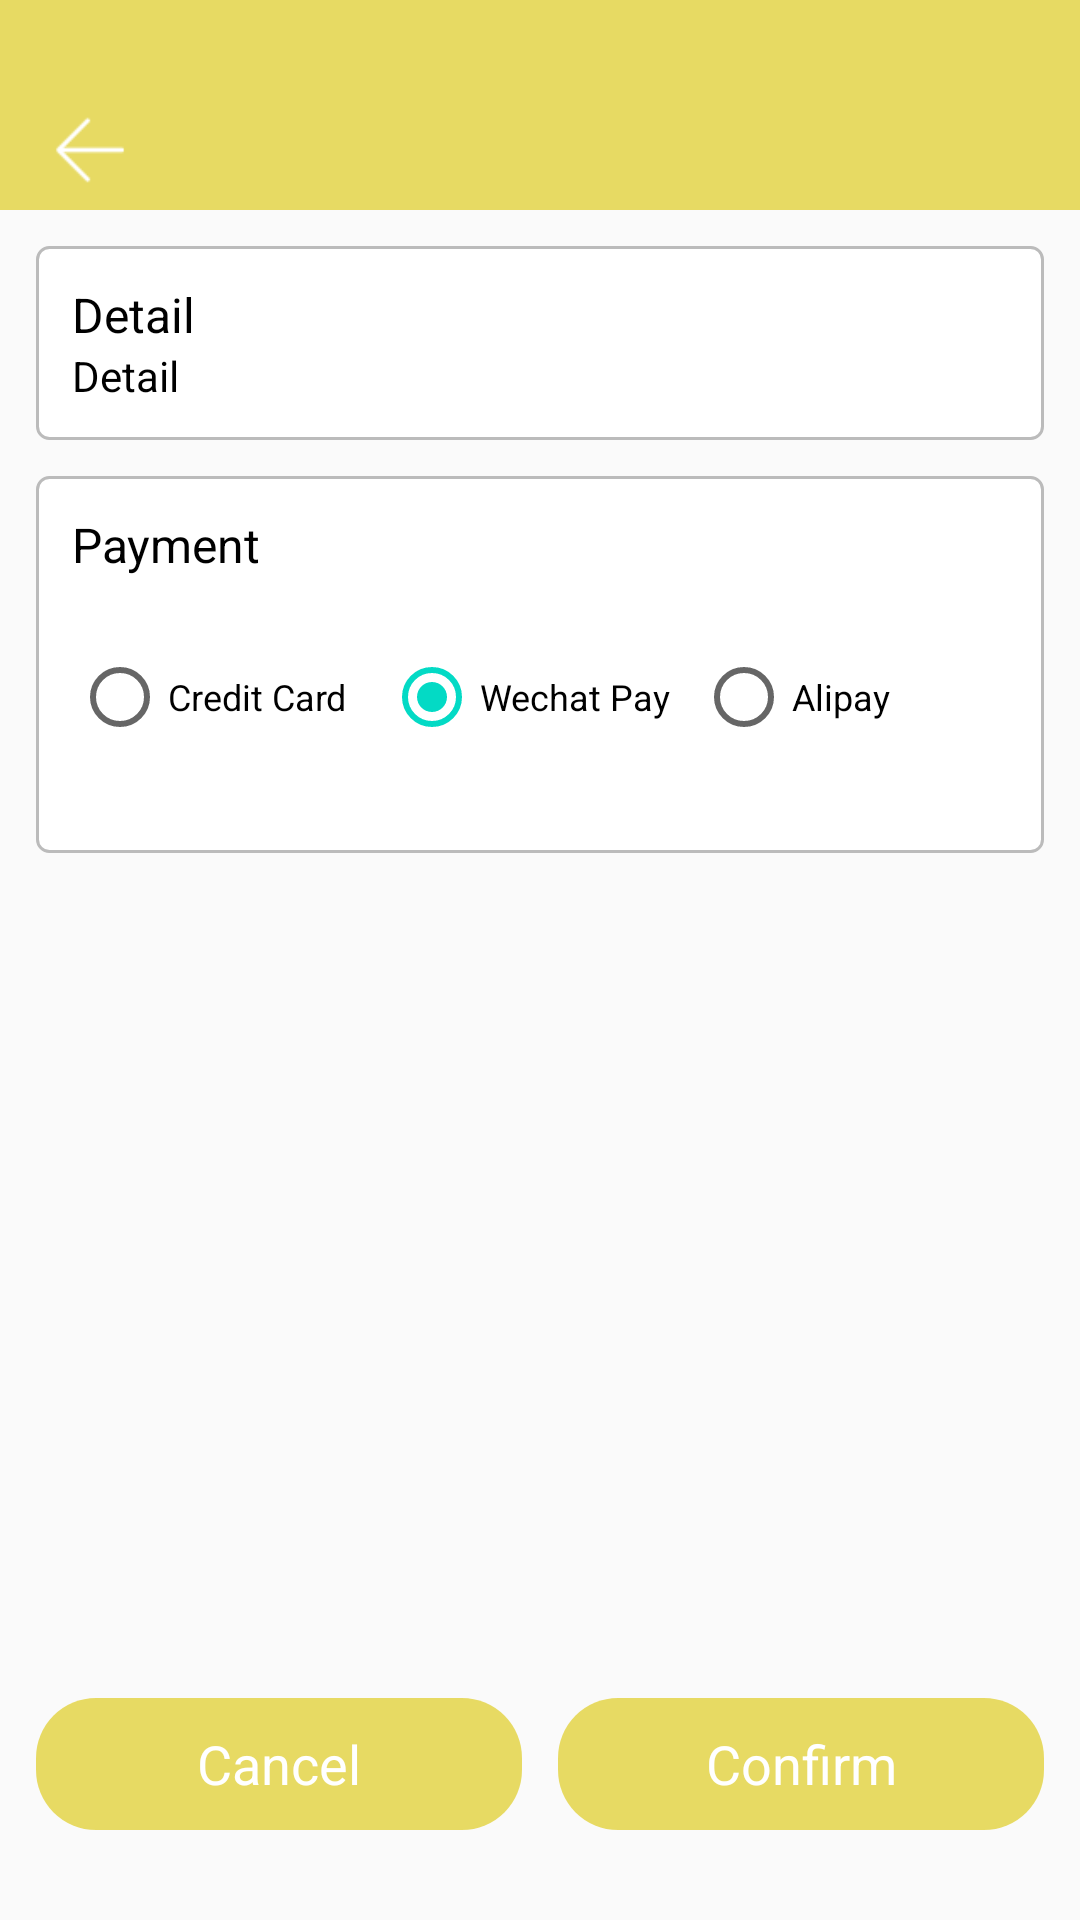

Icons on this 1080px×1920px Android screen, each with the point to tap as (x=x, y=y):
back: (x=90, y=150)
